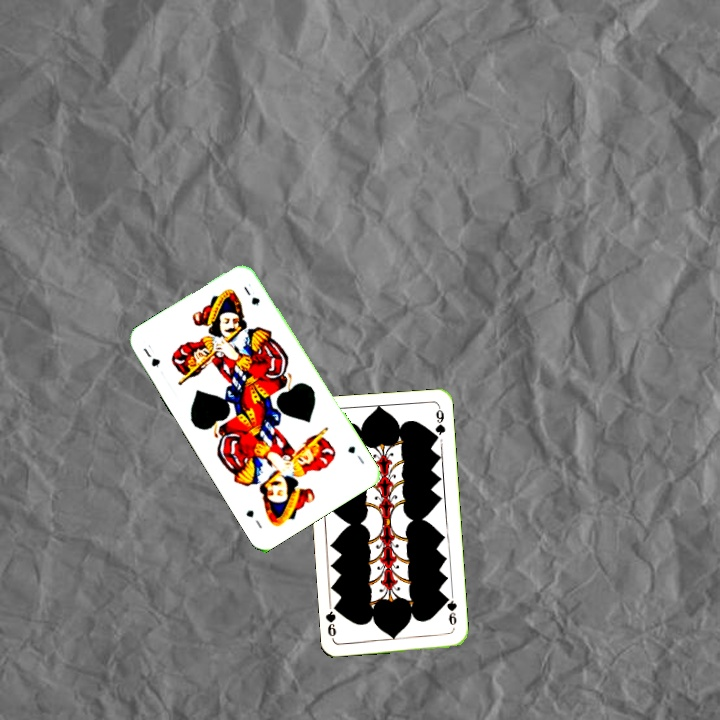G9: (442, 592, 459, 628)
GU: (139, 340, 163, 370), (344, 442, 367, 466)
